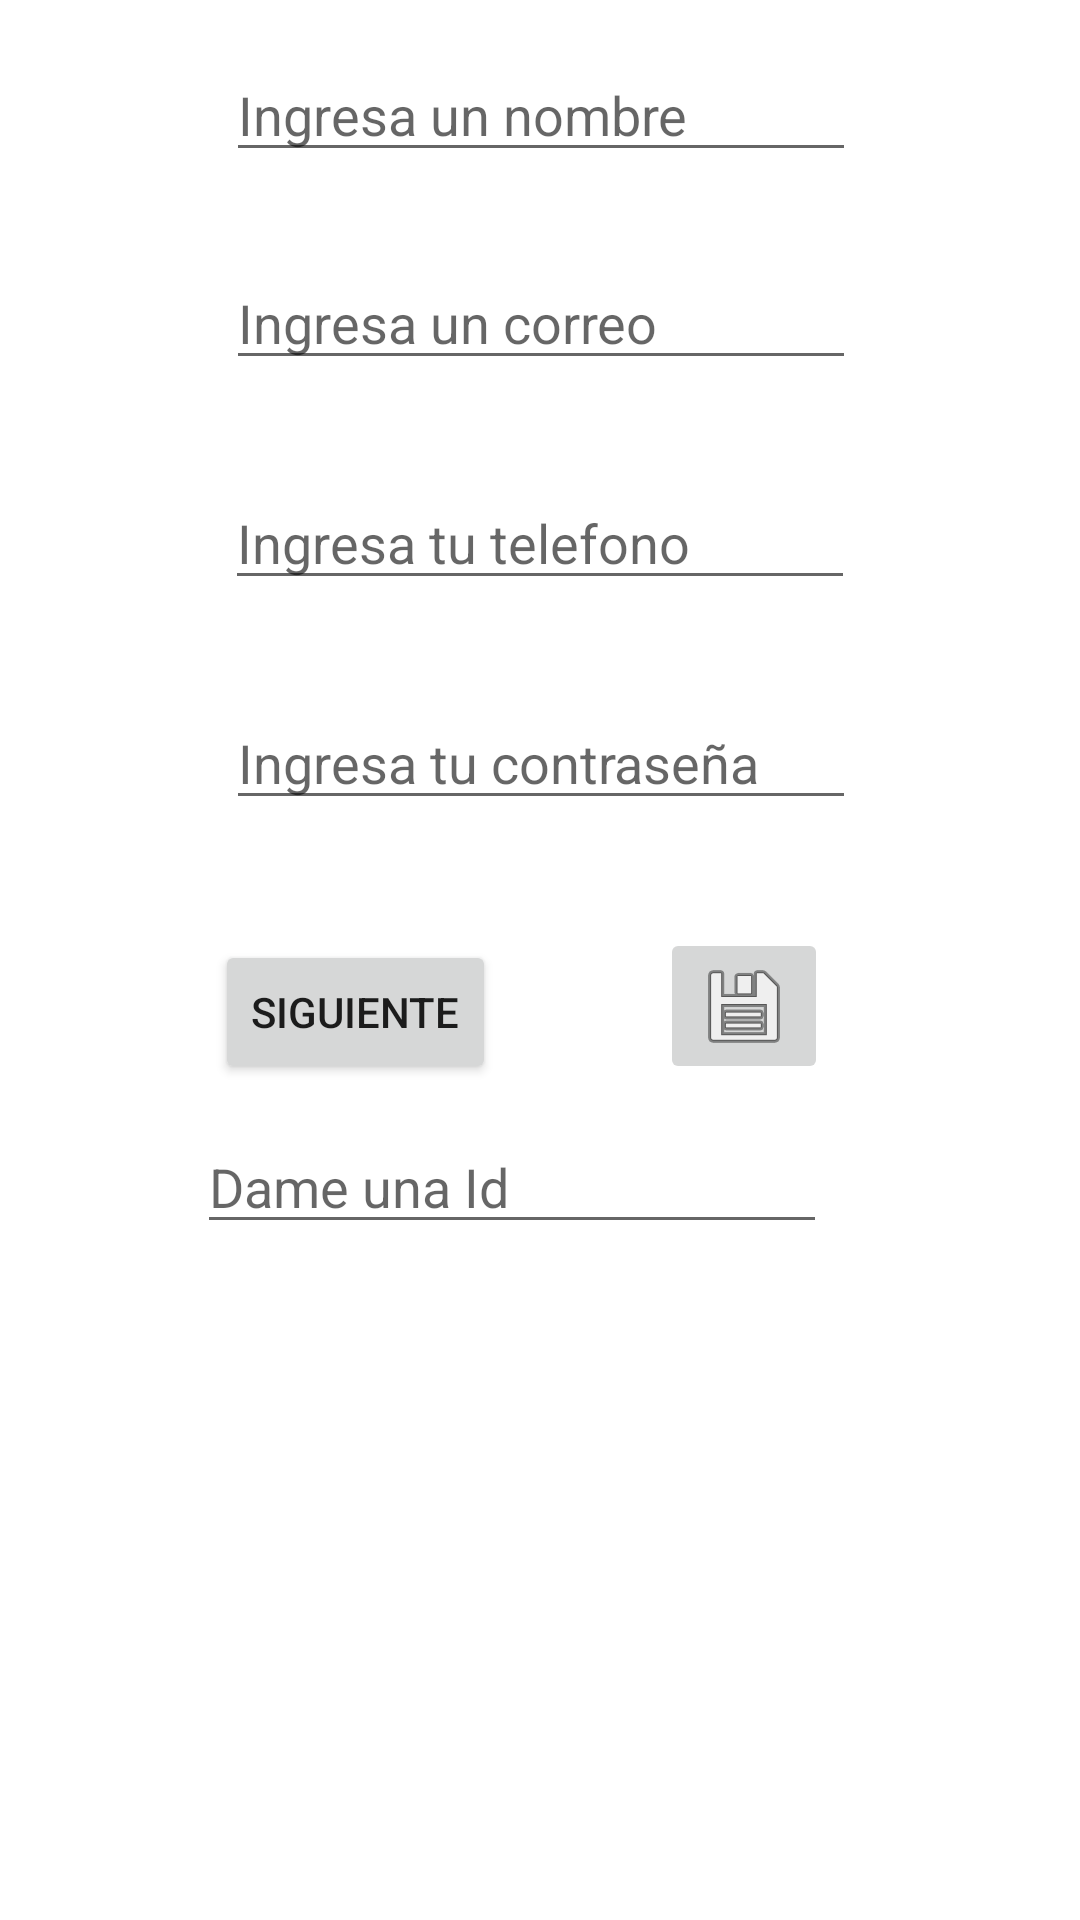

Named icons in this screenshot (1080w x 1920h) and their bounding boxes, (x1, y1, x2, y2):
save: (672, 946, 816, 1066)
